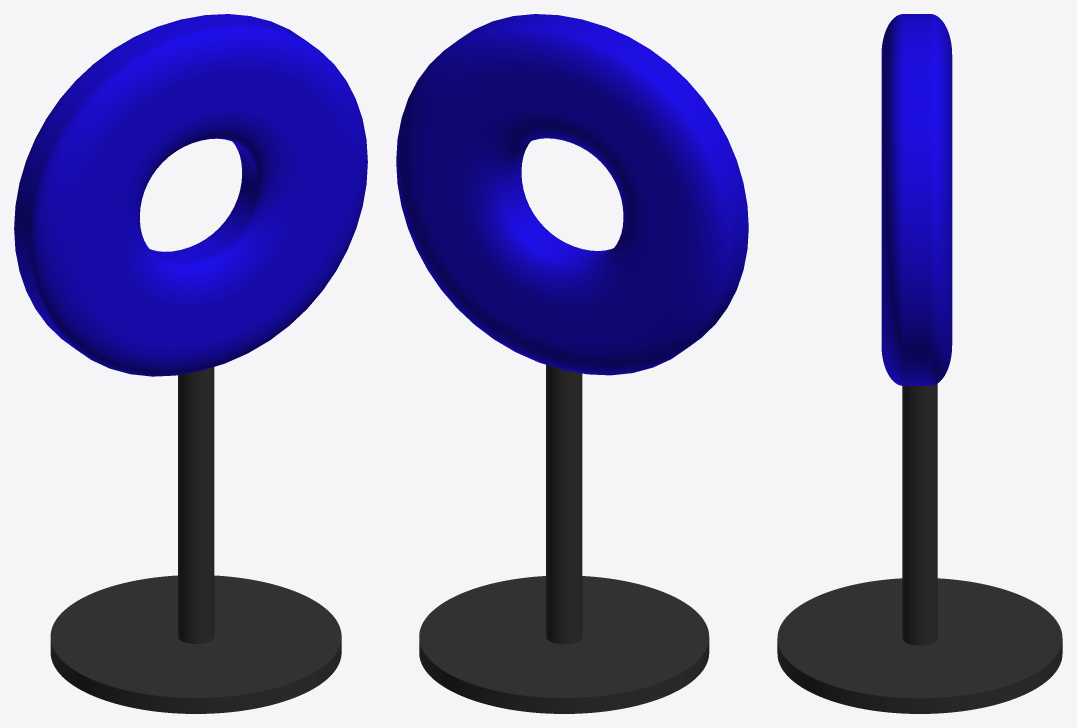
Rendered from Train_Yes.fbx.
3 views of the same model, side by side, from view 1: azimuth 30°, elevation 25°; view 2: azimuth 150°, elevation 25°; view 3: azimuth 270°, elevation 25° (orthographic). The views are drawn at different scales.
Parts seen in each view (by area): view 1: Text.003, Cylinder.003; view 2: Text.003, Cylinder.003; view 3: Cylinder.003, Text.003.
Boxes of the visible parts, bbox=[...] form: Text.003: bbox=[14, 14, 367, 376]; Cylinder.003: bbox=[50, 367, 341, 713]; Text.003: bbox=[396, 14, 748, 375]; Cylinder.003: bbox=[419, 365, 709, 713]; Cylinder.003: bbox=[777, 383, 1062, 713]; Text.003: bbox=[881, 14, 952, 385].
Size of the model in its own units: 4335 by 7748 by 3243.
